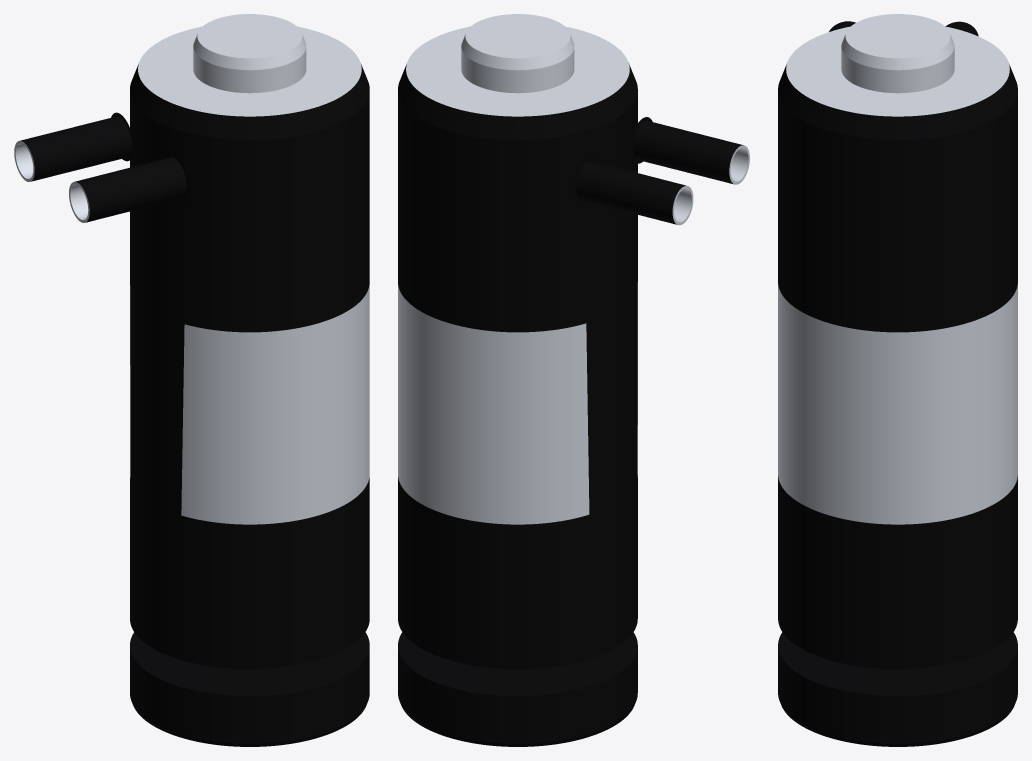
The model's file is batterydude.glb.
The picture shows the model from 3 angles, left to right: view 1: azimuth 30°, elevation 25°; view 2: azimuth 150°, elevation 25°; view 3: azimuth 270°, elevation 25°; orthographic projection.
Visible parts, largest first — view 1: Battery dude, Cylinder.001; view 2: Battery dude, Cylinder.001; view 3: Battery dude.
Boxes of the visible parts, x1=… form: Battery dude: x1=130, y1=14, x2=369, y2=746; Cylinder.001: x1=14, y1=112, x2=188, y2=222; Battery dude: x1=398, y1=14, x2=637, y2=746; Cylinder.001: x1=574, y1=117, x2=749, y2=225; Battery dude: x1=778, y1=14, x2=1017, y2=746.
Bounding box in the file's own units: 1.56 × 3.29 × 1.08.
2 materials, 2 textured.
